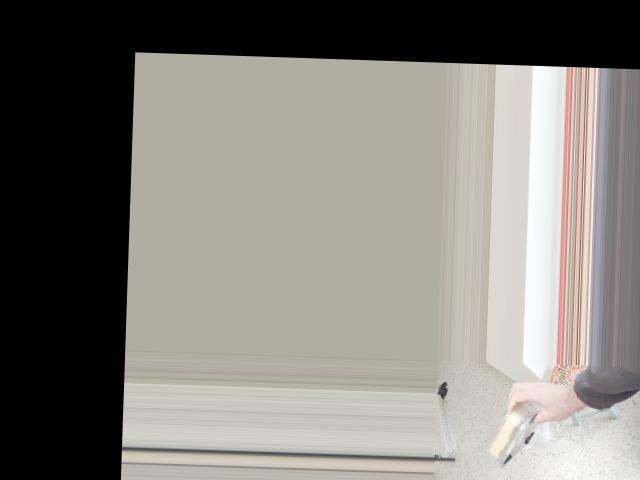cheese: (473, 367, 558, 471)
